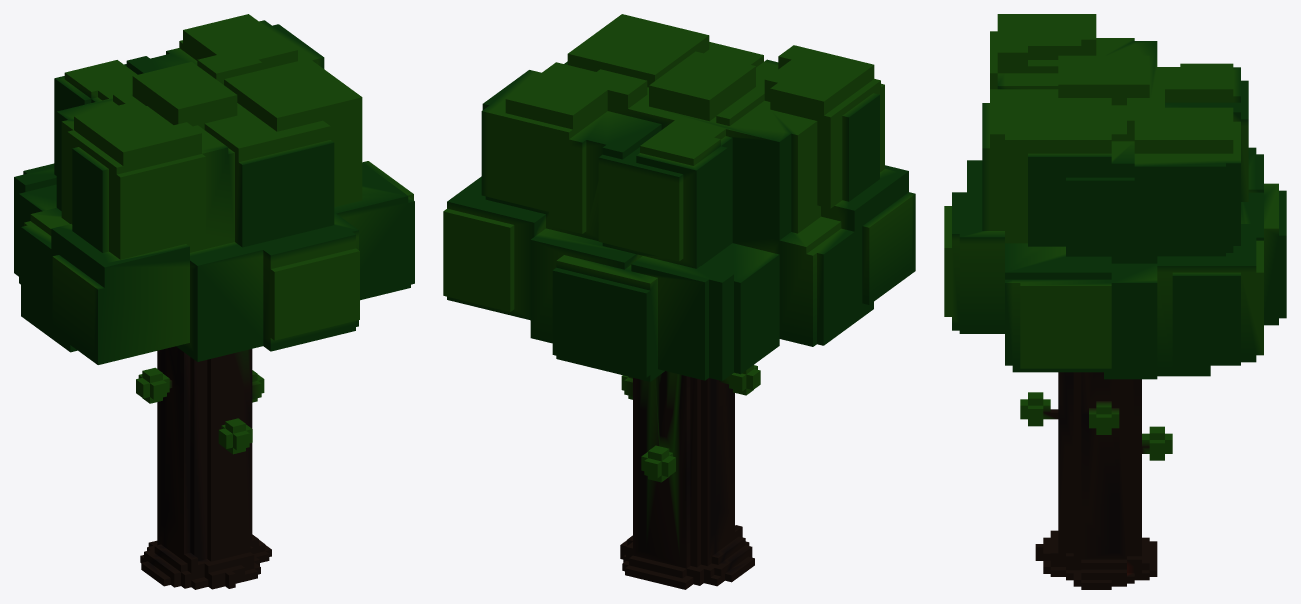
Rendered from Tree_15.fbx.
3 renders of one model, left to right at view 1: azimuth 30°, elevation 25°; view 2: azimuth 150°, elevation 25°; view 3: azimuth 270°, elevation 25°, orthographic. The views are drawn at different scales.
Parts seen in each view (by area): view 1: Tree_15; view 2: Tree_15; view 3: Tree_15.
Boxes of the visible parts, <box> form: Tree_15: <box>14,14,414,589</box>; Tree_15: <box>443,14,915,589</box>; Tree_15: <box>944,14,1286,589</box>.
Size of the model in its own units: 510 by 700 by 450.
